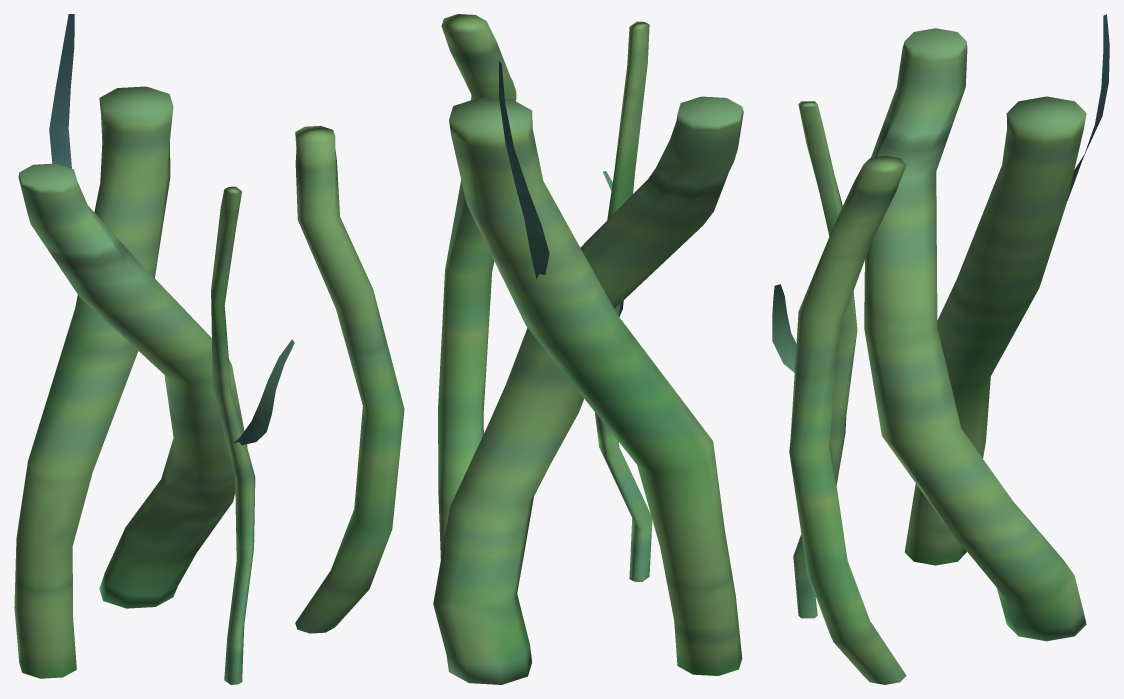
File: stems03.fbx
3 renders of one model, left to right at view 1: azimuth 30°, elevation 25°; view 2: azimuth 150°, elevation 25°; view 3: azimuth 270°, elevation 25°, orthographic. The views are drawn at different scales.
Visible parts, largest first — view 1: stems03; view 2: stems03; view 3: stems03.
Part boxes in pixels (box(x1,y1,x2,y2)): stems03: box(14, 14, 404, 684); stems03: box(433, 14, 743, 684); stems03: box(772, 14, 1109, 684).
Size of the model in its own units: 0.6807 by 1.16 by 0.5987.
